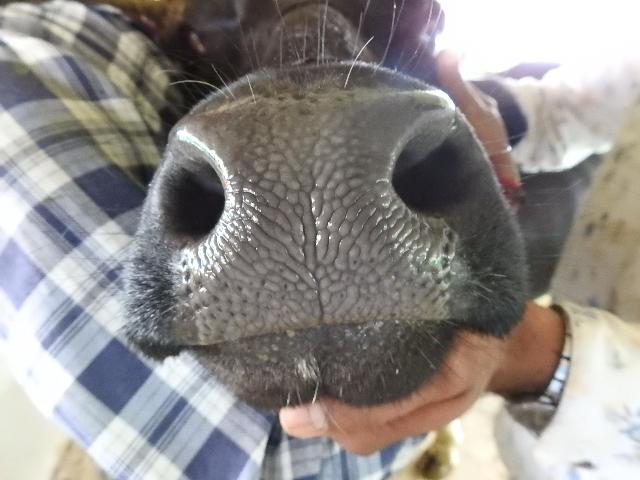Muzzle: (208, 116, 412, 326)
